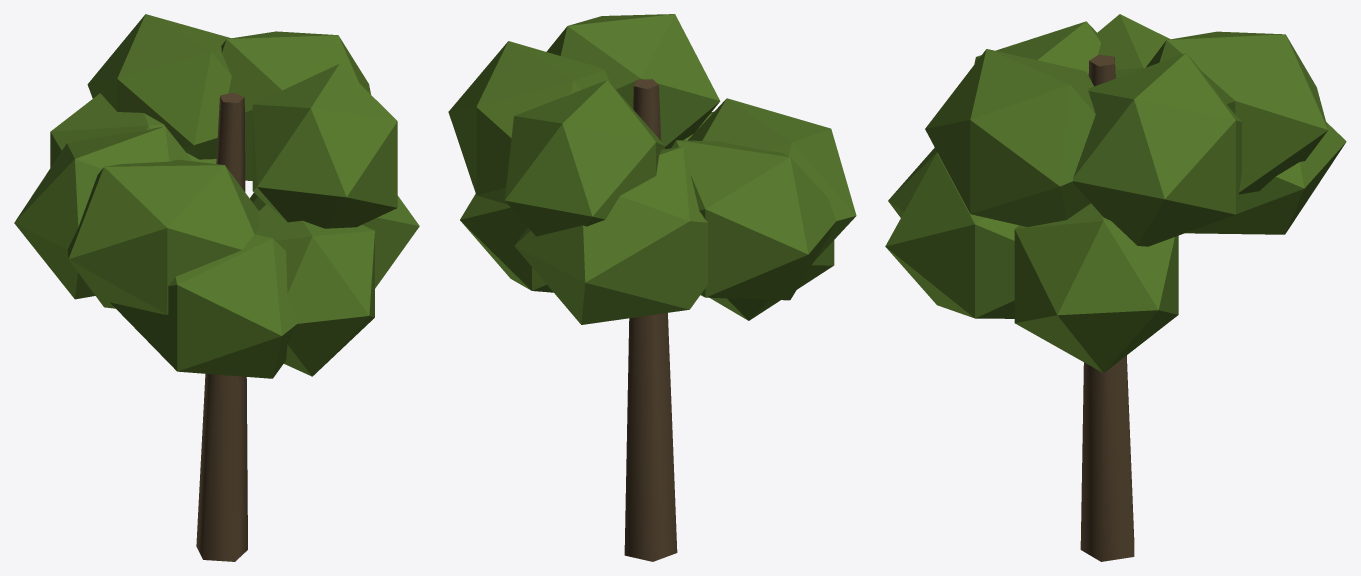
3 renders of one model, left to right at view 1: azimuth 30°, elevation 25°; view 2: azimuth 150°, elevation 25°; view 3: azimuth 270°, elevation 25°, orthographic. The views are drawn at different scales.
Visible parts, largest first — view 1: oak-leaf; view 2: oak-leaf; view 3: oak-leaf.
Part boxes in pixels (<box>): oak-leaf: <box>14,14,419,561</box>; oak-leaf: <box>448,14,856,561</box>; oak-leaf: <box>885,14,1346,561</box>.
Bounding box in the file's own units: 6.31 × 8.1 × 6.53.
